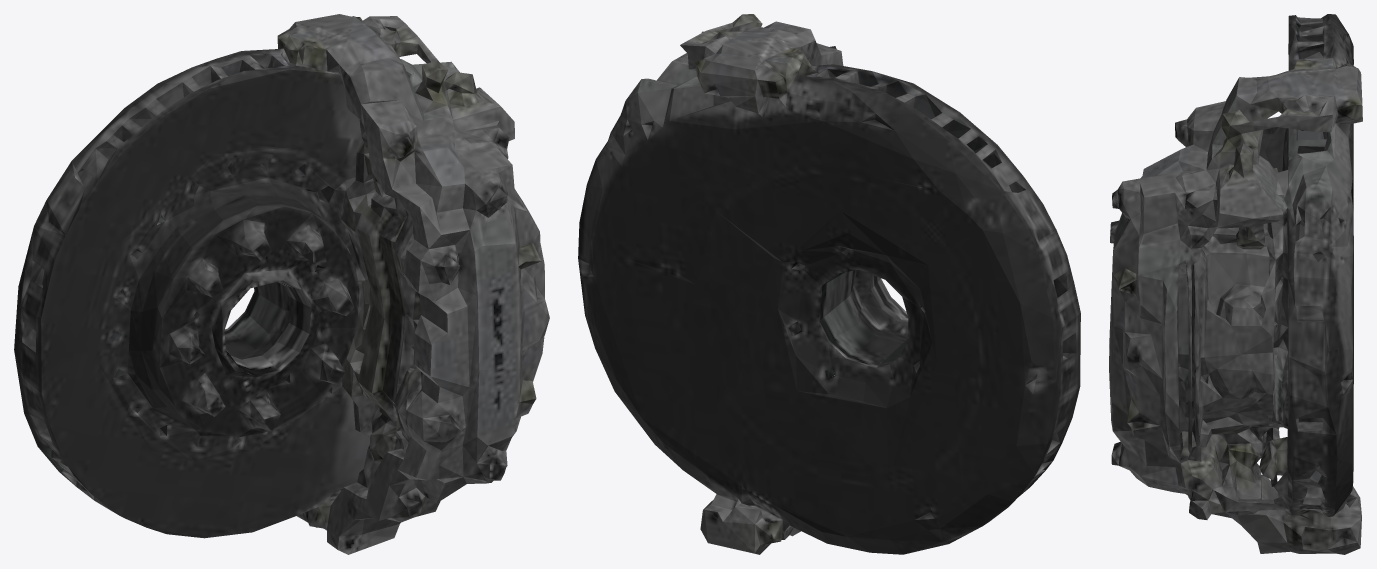
File: brakes_ok.glb
The picture shows the model from 3 angles, left to right: view 1: azimuth 30°, elevation 25°; view 2: azimuth 150°, elevation 25°; view 3: azimuth 270°, elevation 25°; orthographic projection. The views are drawn at different scales.
Parts seen in each view (by area): view 1: brakes_ok; view 2: brakes_ok; view 3: brakes_ok.
Boxes of the visible parts, x1,y1,x2,y2 form: brakes_ok: (14,14,549,554); brakes_ok: (578,14,1080,554); brakes_ok: (1109,14,1362,554).
Bounding box in the file's own units: 1.89 × 1.87 × 0.9074.
Materials: 1 (1 with a texture image).
